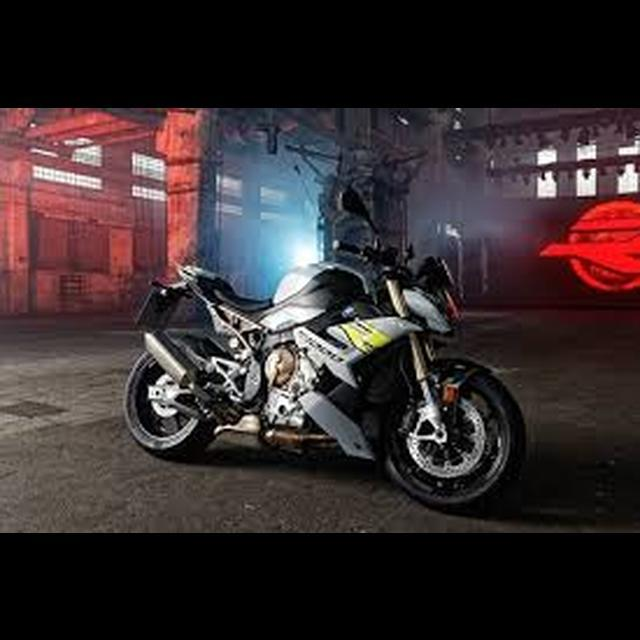motorcycle: (119, 175, 535, 521)
